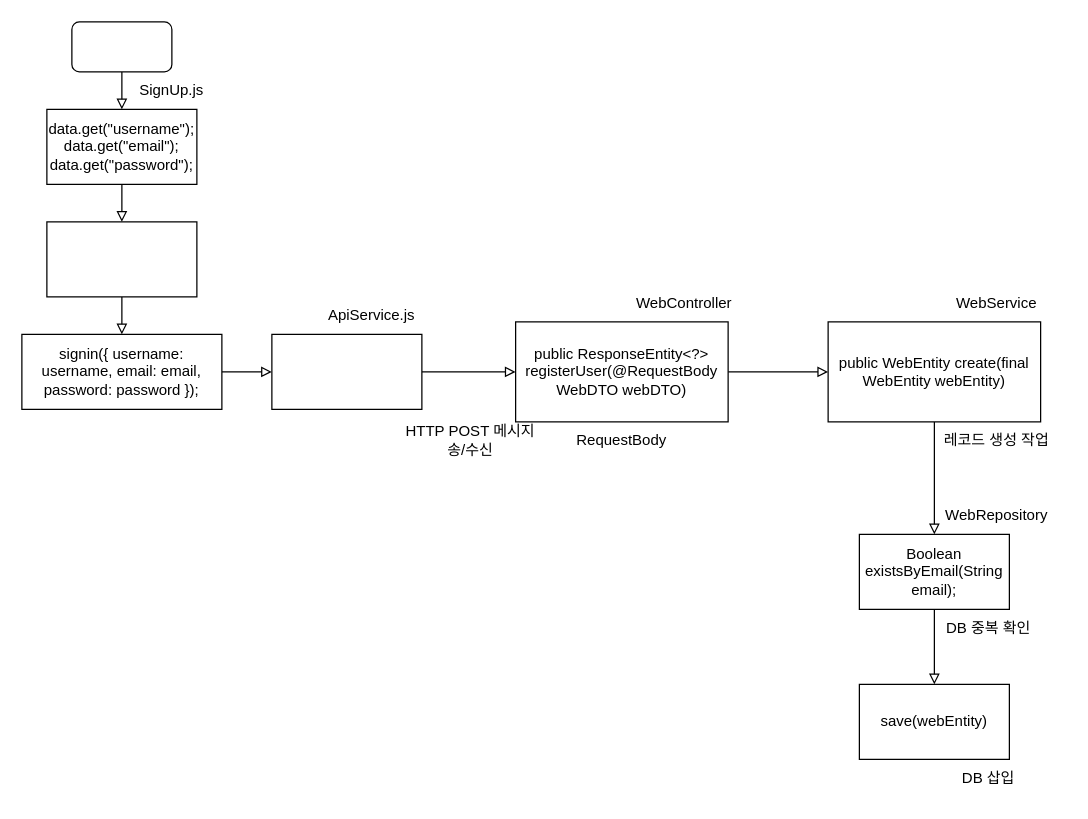
Some shapes in this 1088 by 819 pixel diagram are drawn without their labels. The shapes that lost their labels are listed below. From the top down, each one's box as (x1, y1, x2, y2) in pixels, then its label:
(71, 21, 172, 72): start
(46, 221, 197, 297): handleSubmit(event);
(271, 333, 422, 409): call("/system/signup", "POST", webDTO);
